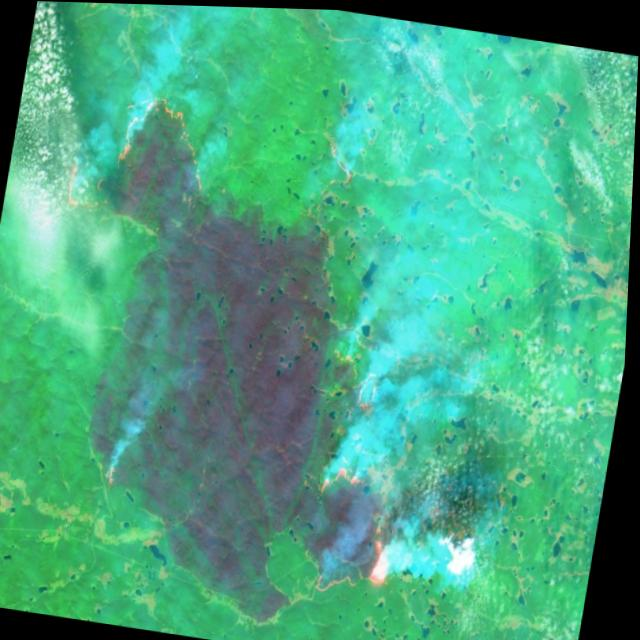fire: (54, 76, 218, 244), (300, 447, 421, 611), (314, 129, 365, 201), (347, 360, 398, 424)
